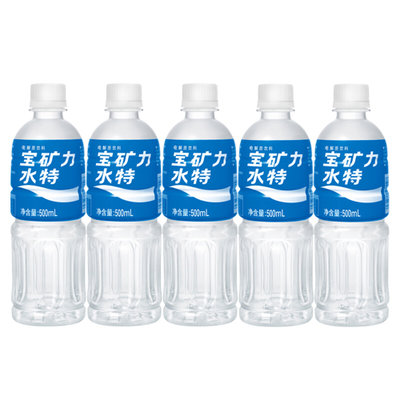POCARI SWEAT: (10, 82, 86, 326), (85, 80, 161, 324), (163, 81, 239, 325), (239, 83, 315, 327), (315, 78, 391, 322)
